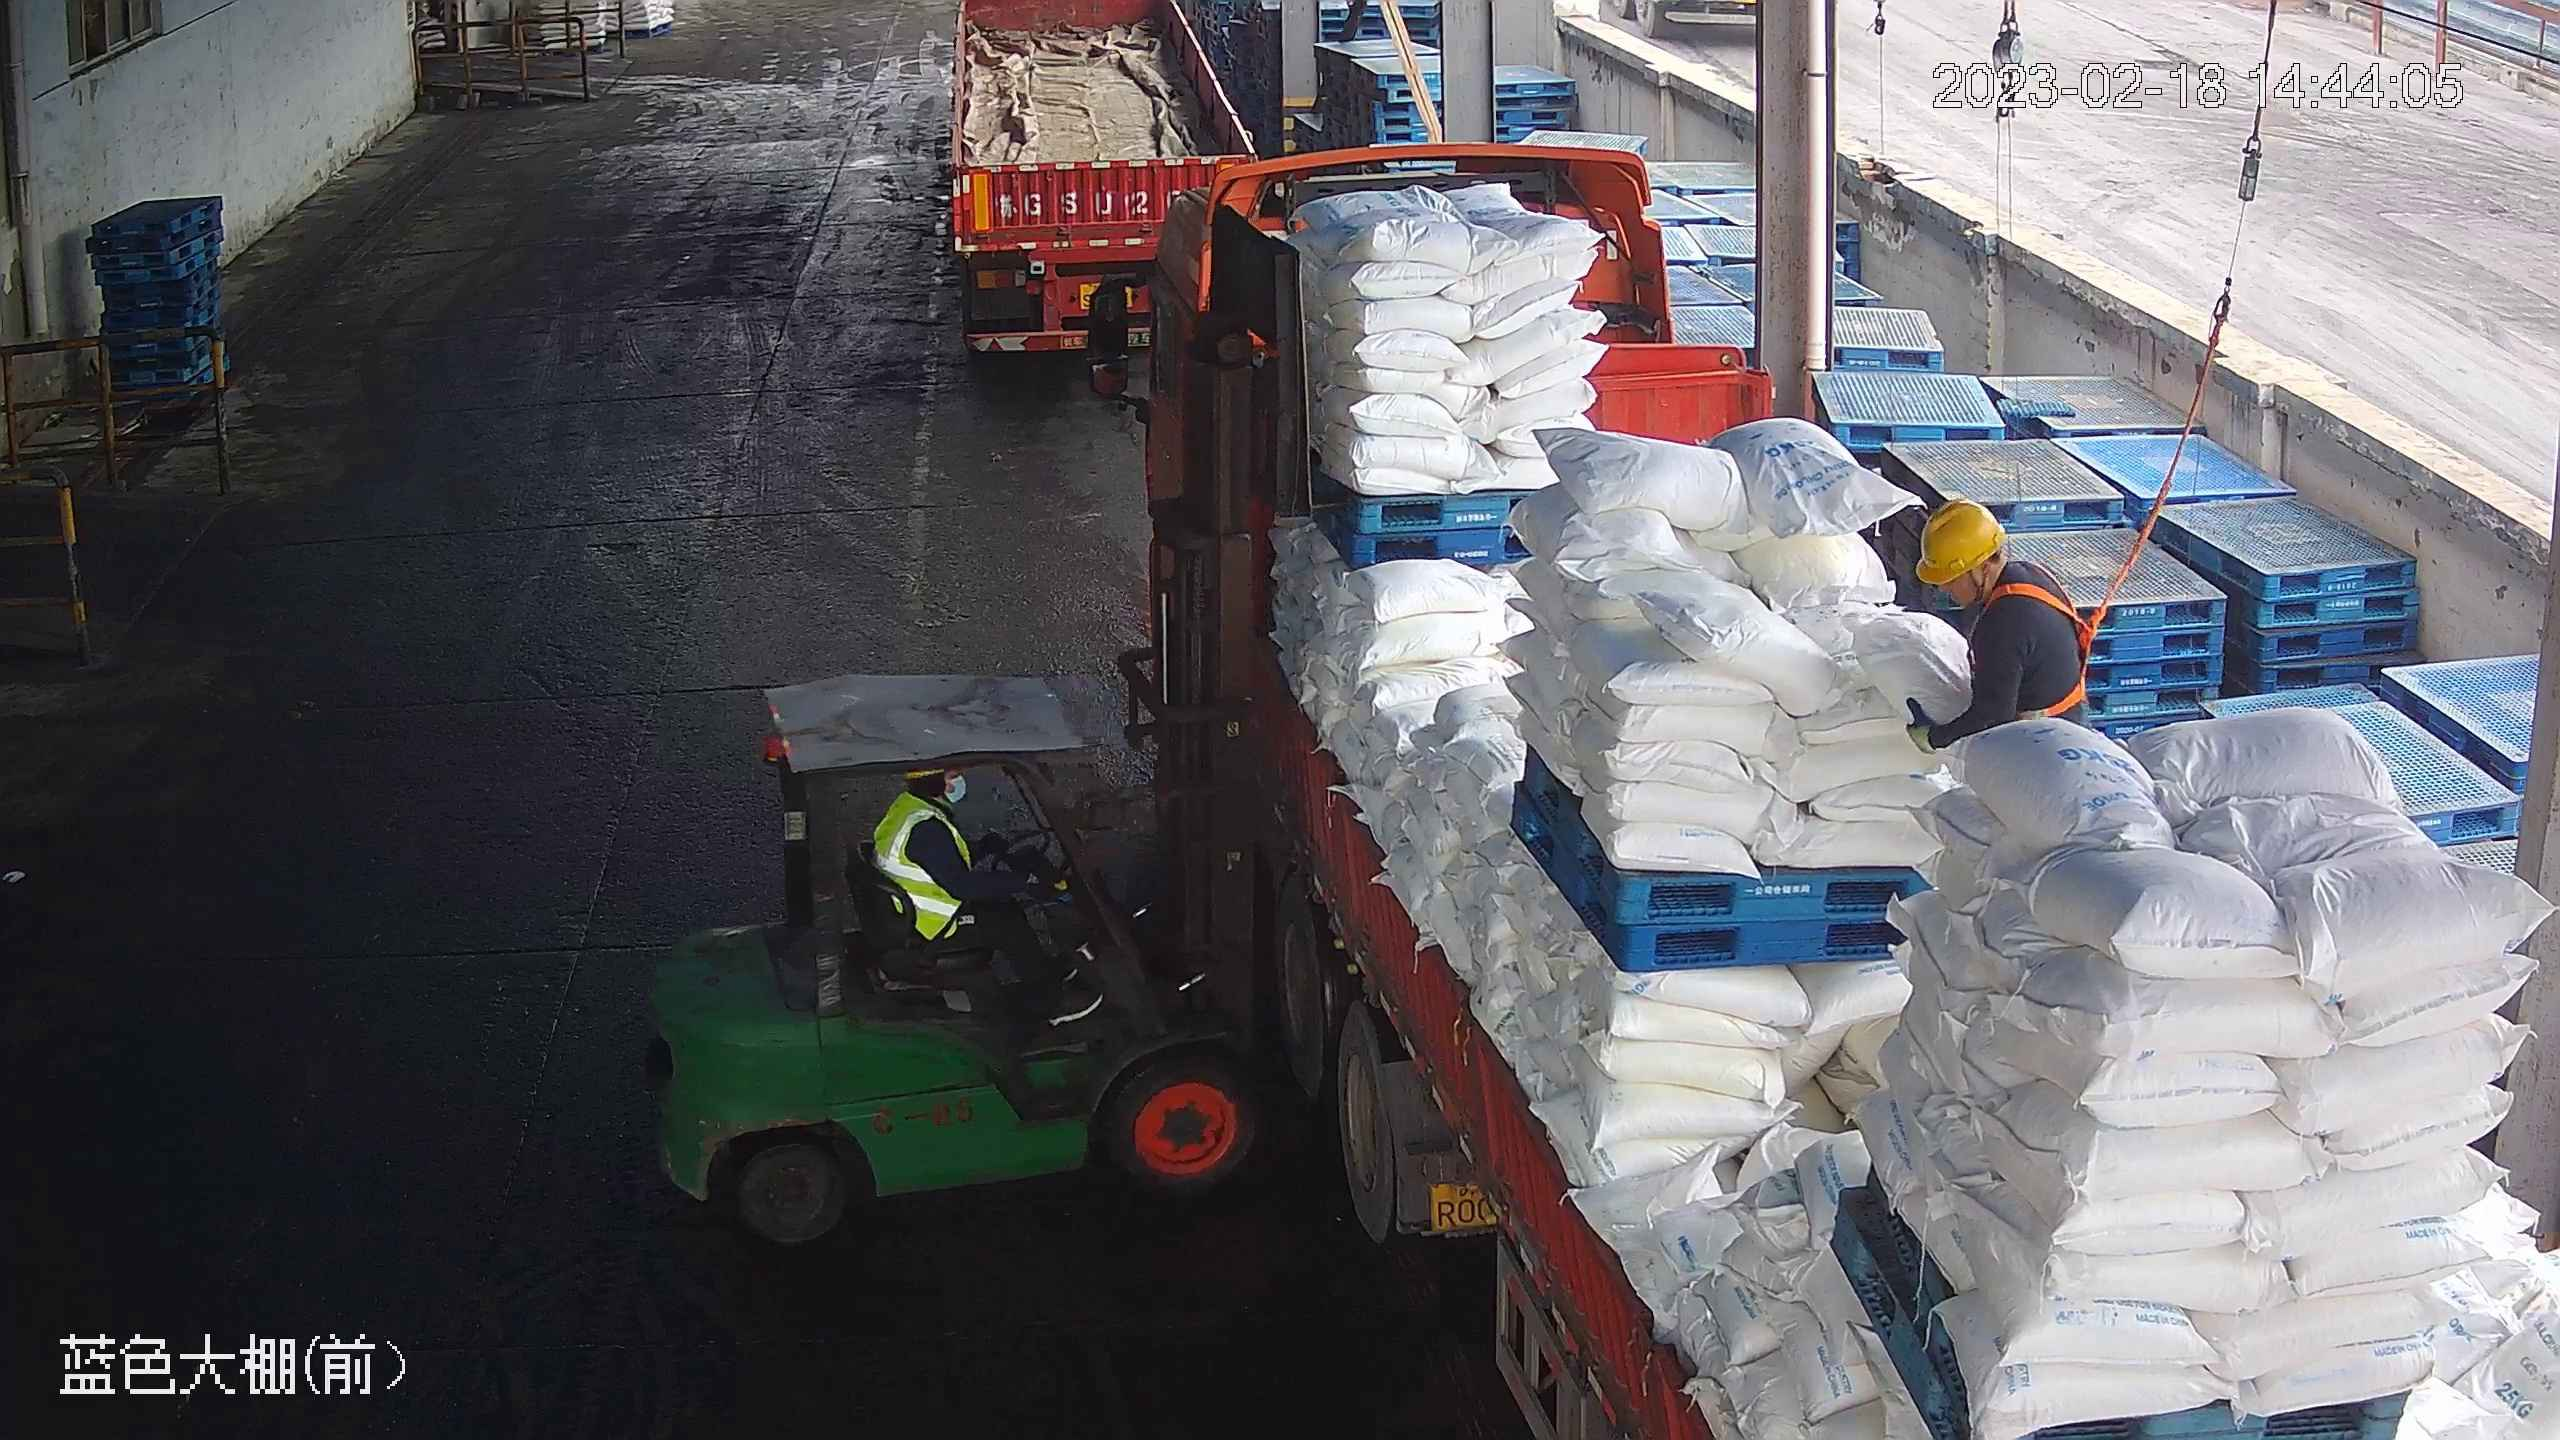belt: (1986, 568, 2101, 722)
head: (1908, 498, 2081, 664)
helmet: (1909, 497, 2008, 582)
people: (875, 762, 1104, 1019)
truck: (1084, 139, 2559, 1438), (945, 2, 1259, 353)
